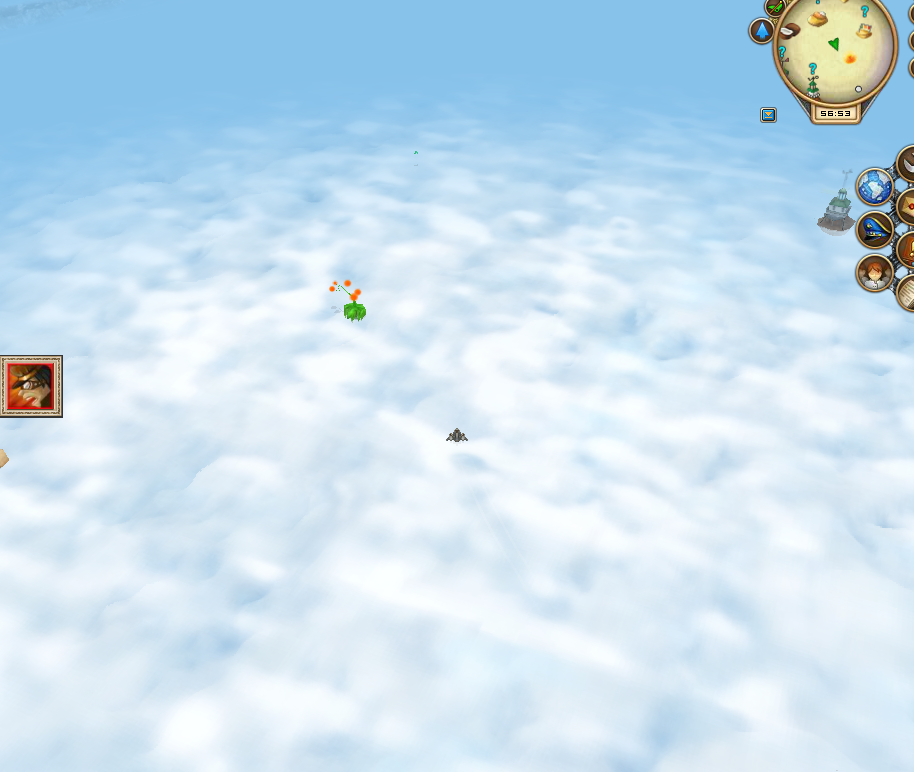dandelion-full: (324, 276, 368, 326)
